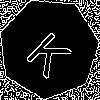K: (24, 23, 80, 80)
